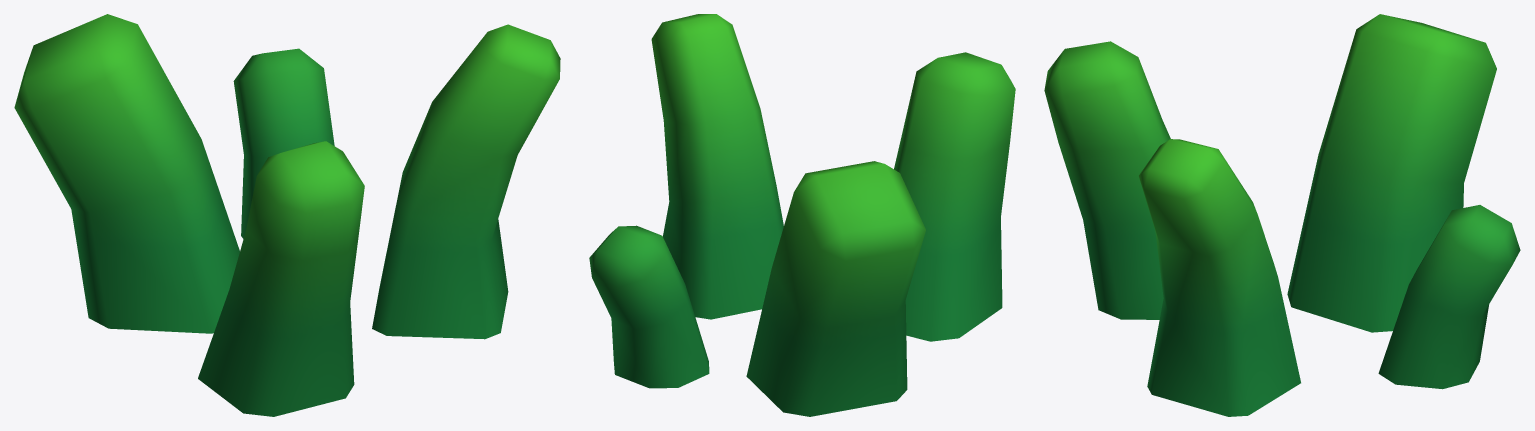
The model's file is Grass_1_1.obj.
The picture shows the model from 3 angles, left to right: view 1: azimuth 30°, elevation 25°; view 2: azimuth 150°, elevation 25°; view 3: azimuth 270°, elevation 25°; orthographic projection. The views are drawn at different scales.
Visible parts, largest first — view 1: Grass_1_1; view 2: Grass_1_1; view 3: Grass_1_1.
Part boxes in pixels (box(x1,y1,x2,y2)): Grass_1_1: box(14, 14, 560, 416); Grass_1_1: box(589, 14, 1015, 416); Grass_1_1: box(1044, 14, 1520, 416).
Size of the model in its own units: 0.2258 by 0.1437 by 0.2355.
